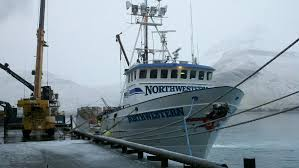boat: (76, 1, 245, 164)
